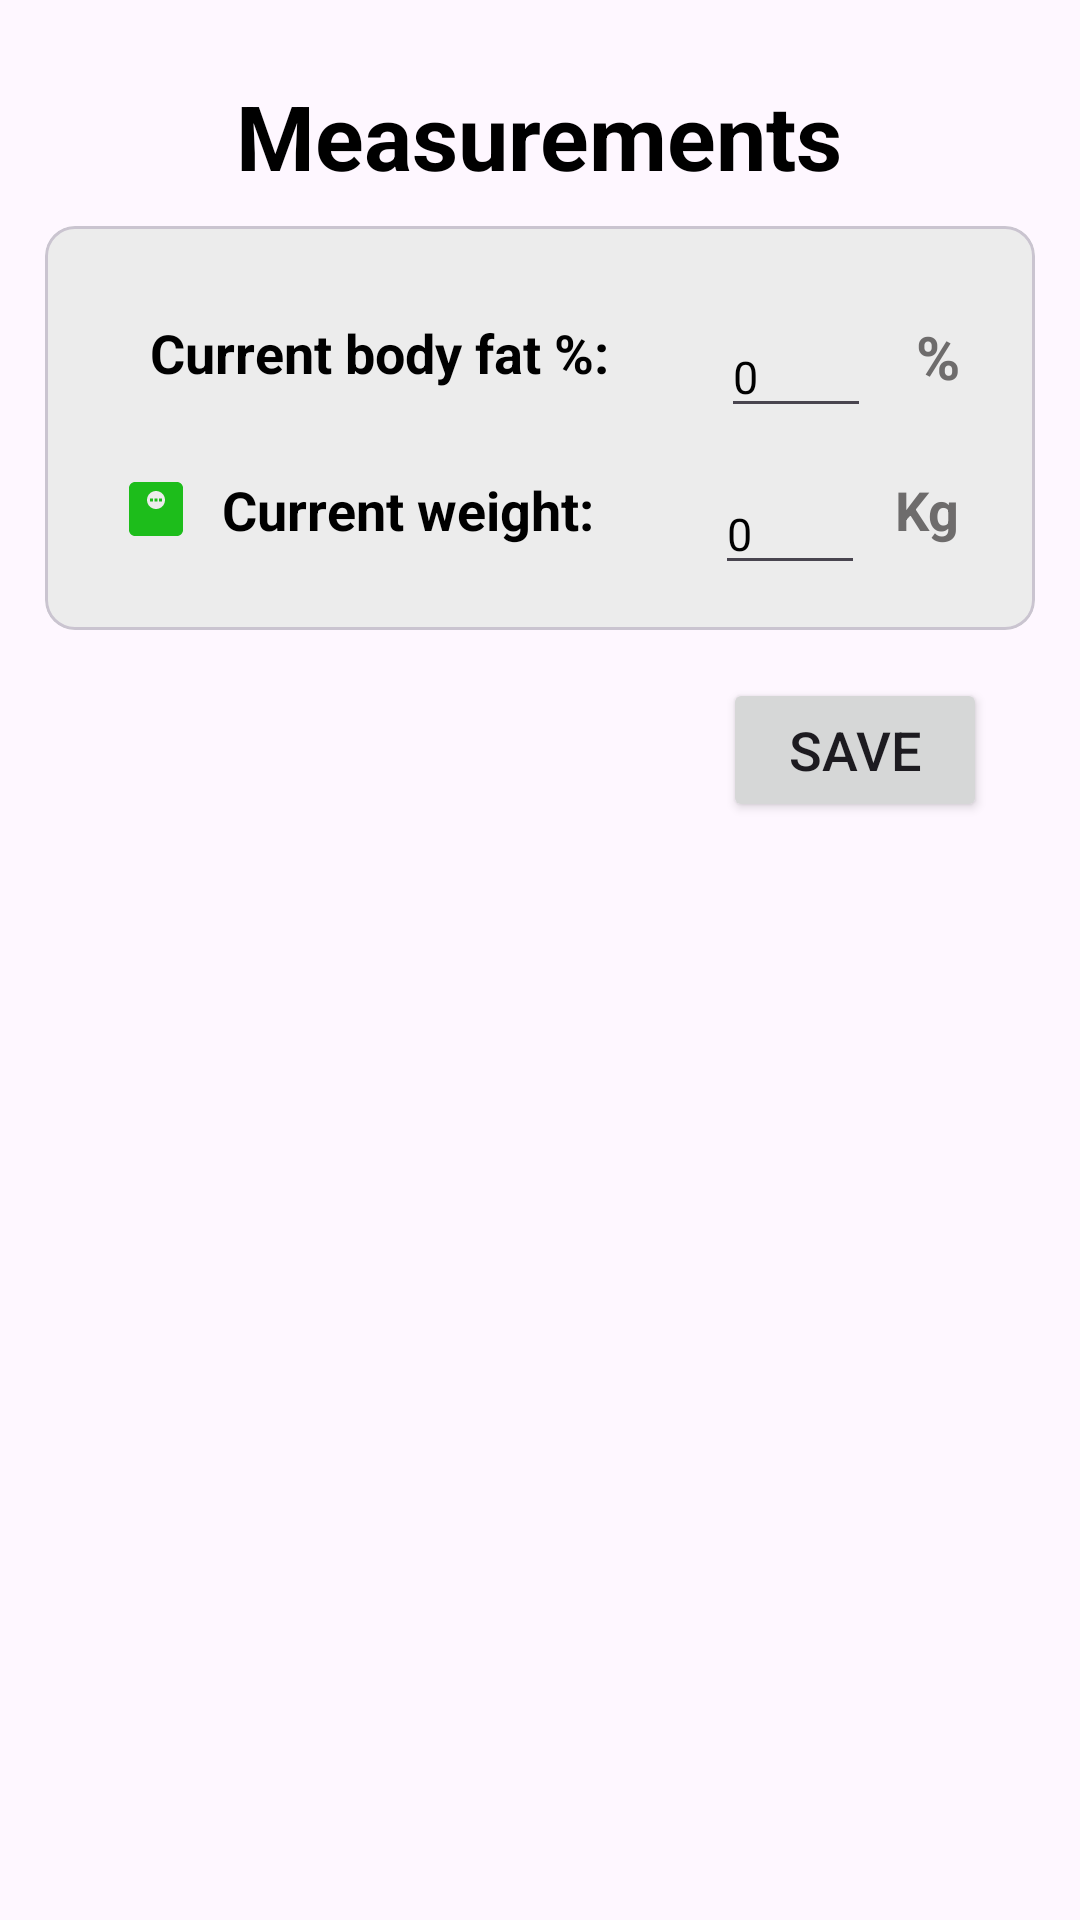

Icon click points for this 1080 x 1920 phone screenshot, format (x=x, y=y):
monitor weight: (x=156, y=509)
